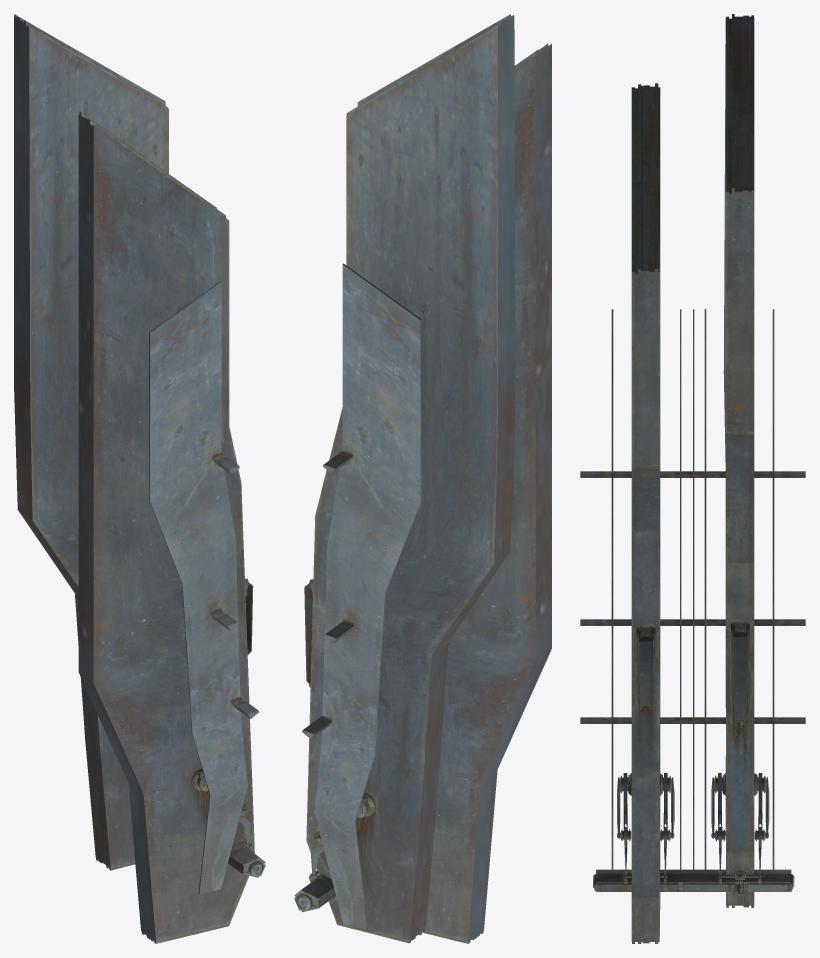
The model's file is combine_wall.obj.
The picture shows the model from 3 angles, left to right: view 1: azimuth 30°, elevation 25°; view 2: azimuth 150°, elevation 25°; view 3: azimuth 270°, elevation 25°; orthographic projection. The views are drawn at different scales.
Parts seen in each view (by area): view 1: combine_wall; view 2: combine_wall; view 3: combine_wall.
Boxes of the visible parts, bbox=[...] form: combine_wall: bbox=[14, 14, 265, 943]; combine_wall: bbox=[294, 14, 551, 943]; combine_wall: bbox=[580, 14, 805, 943].
Size of the model in its own units: 44.53 by 211 by 50.21.
